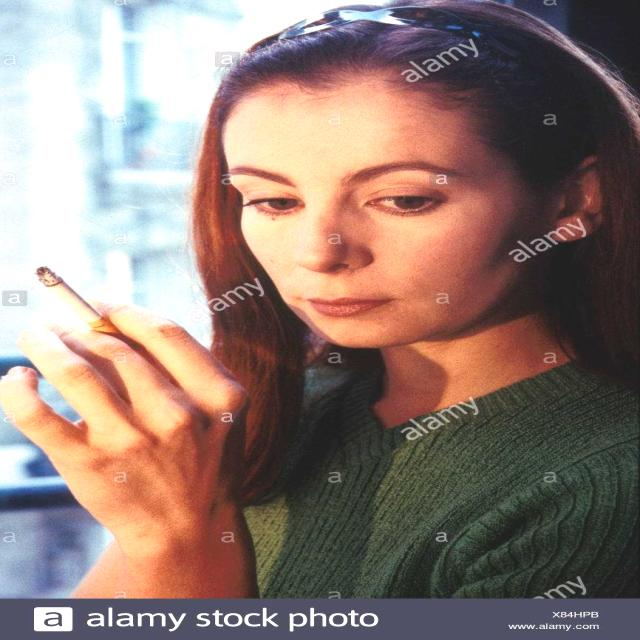Smooking: (8, 251, 138, 363)
